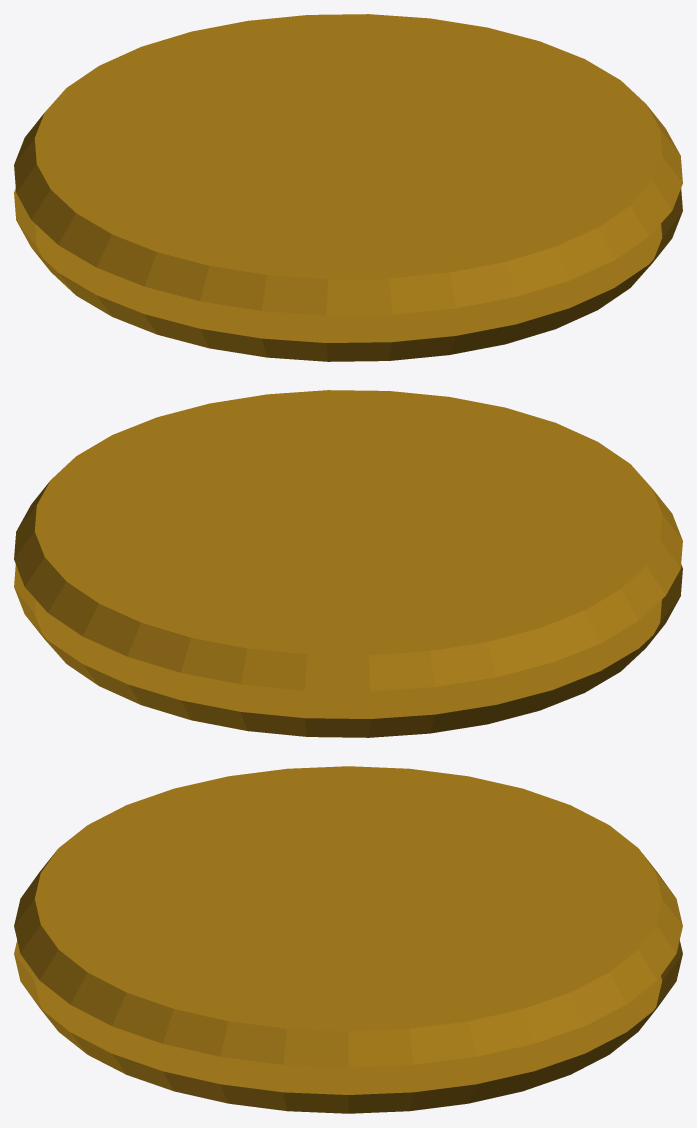
File: lamp 12.fbx
The picture shows the model from 3 angles, top to bottom: view 1: azimuth 30°, elevation 25°; view 2: azimuth 150°, elevation 25°; view 3: azimuth 270°, elevation 25°; orthographic projection.
Visible parts, largest first — view 1: Circle; view 2: Circle; view 3: Circle.
Boxes of the visible parts, x1=… form: Circle: x1=14, y1=14, x2=682, y2=361; Circle: x1=14, y1=390, x2=682, y2=737; Circle: x1=14, y1=766, x2=682, y2=1113.
Size of the model in its own units: 4416 by 600 by 4416.
